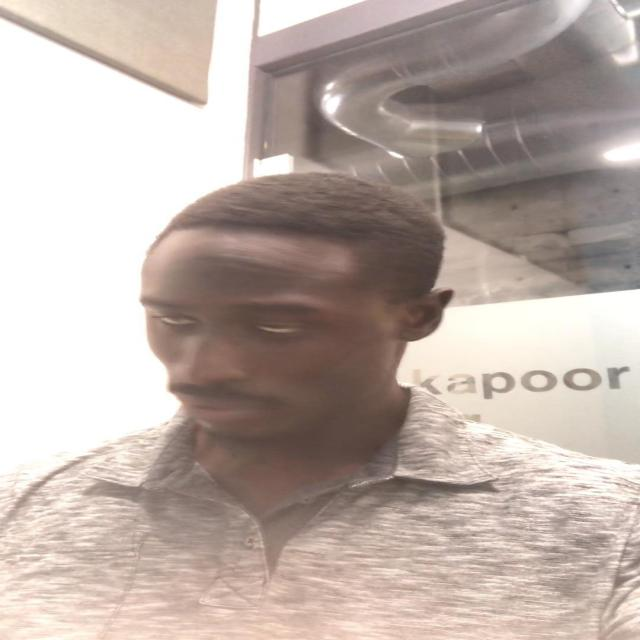face: (144, 233, 434, 439)
